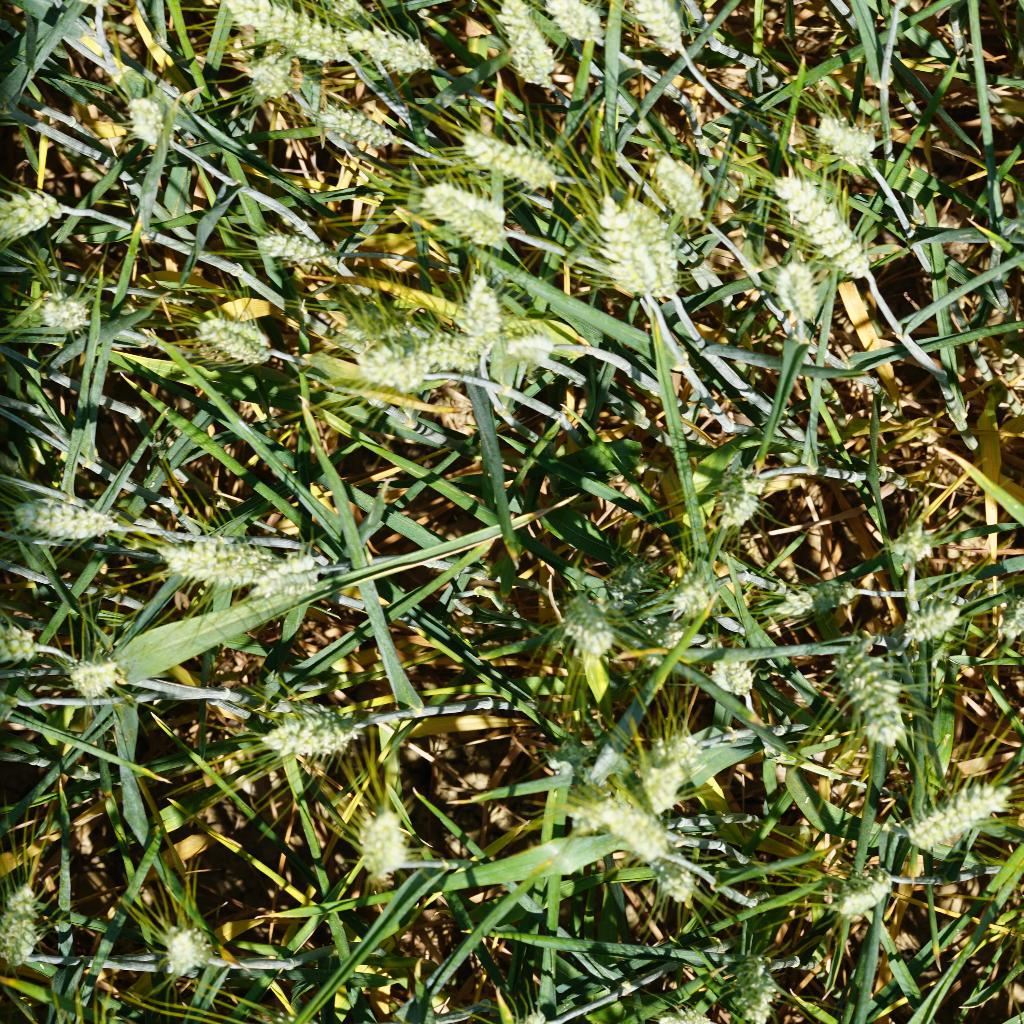0-0: (772, 165, 885, 295), (613, 191, 698, 324), (881, 769, 1009, 851), (220, 0, 365, 70), (453, 126, 571, 209), (403, 178, 526, 253), (833, 630, 914, 737), (580, 785, 681, 860), (14, 489, 129, 553), (485, 0, 560, 97), (601, 200, 666, 311), (343, 19, 449, 82), (621, 724, 699, 806), (393, 317, 515, 369), (310, 96, 418, 153), (550, 578, 624, 661), (260, 692, 354, 757), (156, 533, 271, 586), (348, 339, 449, 399), (716, 958, 803, 1024), (647, 145, 713, 232), (189, 313, 287, 370), (0, 867, 52, 972), (0, 186, 85, 249), (623, 614, 700, 680), (768, 575, 864, 627), (533, 0, 612, 63), (238, 220, 336, 269), (355, 802, 413, 884), (626, 0, 698, 63), (761, 253, 823, 326), (60, 646, 142, 701), (709, 458, 766, 537), (811, 107, 879, 171), (832, 860, 900, 923), (448, 273, 505, 348), (256, 552, 343, 601), (601, 549, 672, 606), (21, 281, 104, 329), (238, 48, 311, 101), (702, 647, 766, 705), (664, 567, 727, 624), (900, 594, 964, 650), (647, 849, 710, 903), (119, 88, 179, 144), (0, 614, 53, 676), (533, 733, 594, 783), (154, 919, 206, 975), (893, 523, 944, 571), (497, 327, 565, 362)
